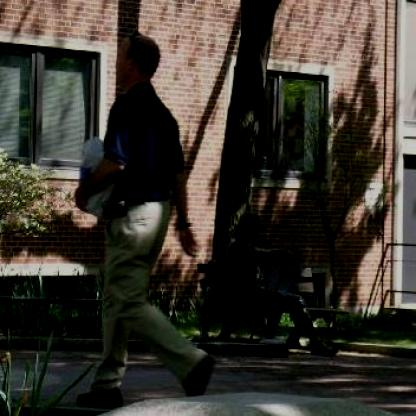ped: (77, 34, 214, 408)
